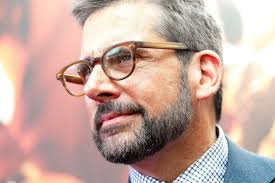Glasses: (50, 37, 182, 100)
